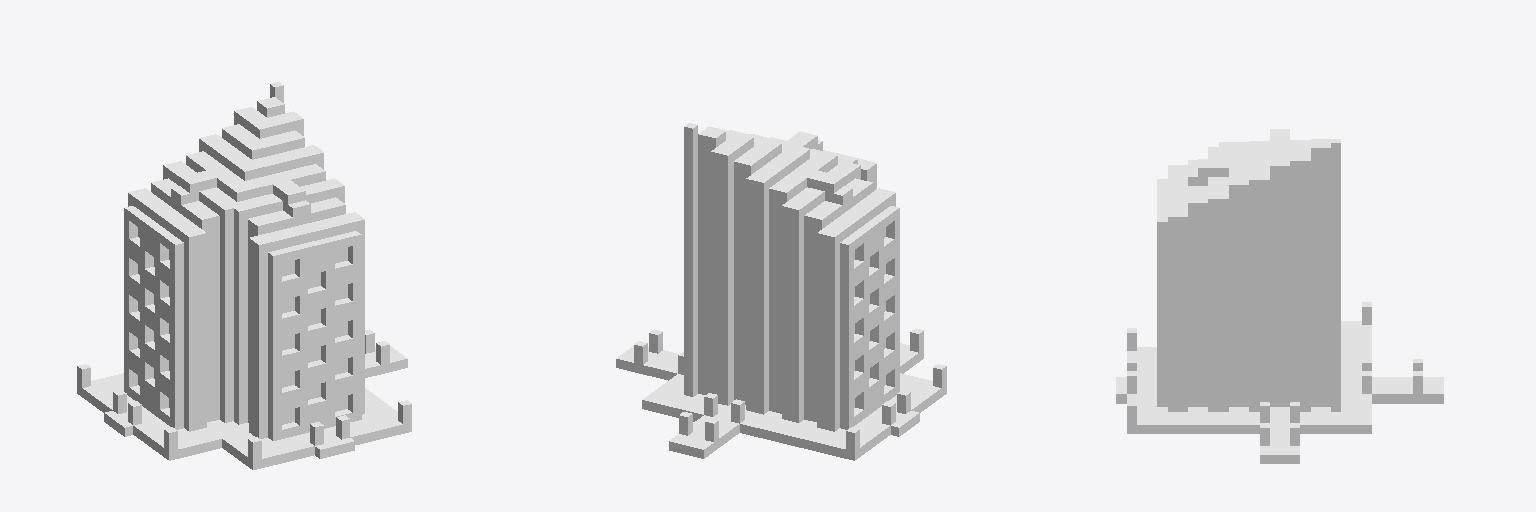
The model's file is office4.obj.
3 views of the same model, side by side, from view 1: azimuth 30°, elevation 25°; view 2: azimuth 150°, elevation 25°; view 3: azimuth 270°, elevation 25° (orthographic).
Visible parts, largest first — view 1: object 1; view 2: object 1; view 3: object 1.
Part boxes in pixels (x1,y1,x2,y2): object 1: (77,82,411,469); object 1: (616,123,946,460); object 1: (1116,129,1443,463).
Size of the model in its own units: 3.2 by 3 by 3.2.